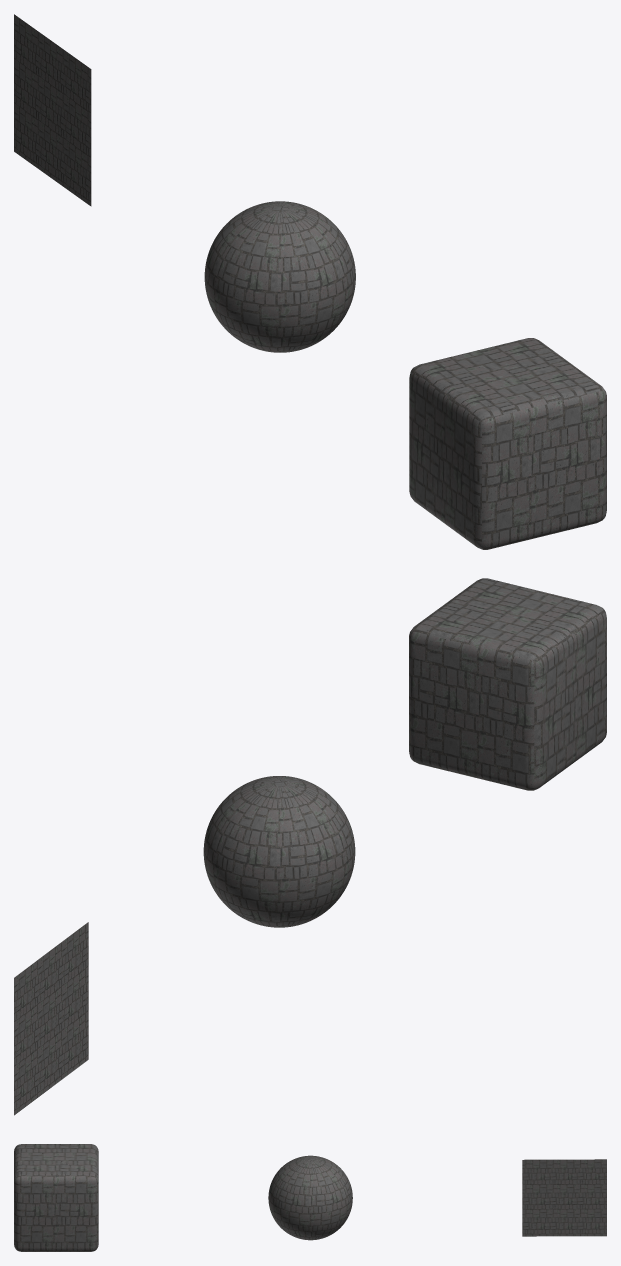
The model's file is big_stone_bricks__tile_texture.glb.
3 renders of one model, top to bottom at view 1: azimuth 30°, elevation 25°; view 2: azimuth 150°, elevation 25°; view 3: azimuth 270°, elevation 25°, orthographic. The views are drawn at different scales.
Visible parts, largest first — view 1: Cube, Sphere, Plane; view 2: Cube, Sphere, Plane; view 3: Cube, Plane, Sphere.
Boxes of the visible parts, box(x1,y1,x2,y2) form: Cube: box(409, 338, 606, 549); Sphere: box(204, 201, 355, 352); Plane: box(14, 14, 91, 206); Cube: box(409, 578, 606, 790); Sphere: box(203, 776, 355, 927); Plane: box(14, 922, 88, 1115); Cube: box(14, 1144, 98, 1251); Plane: box(522, 1159, 606, 1236); Sphere: box(268, 1155, 352, 1240).
Size of the model in its own units: 2 by 2 by 14.01.
Materials: 1 (1 with a texture image).
